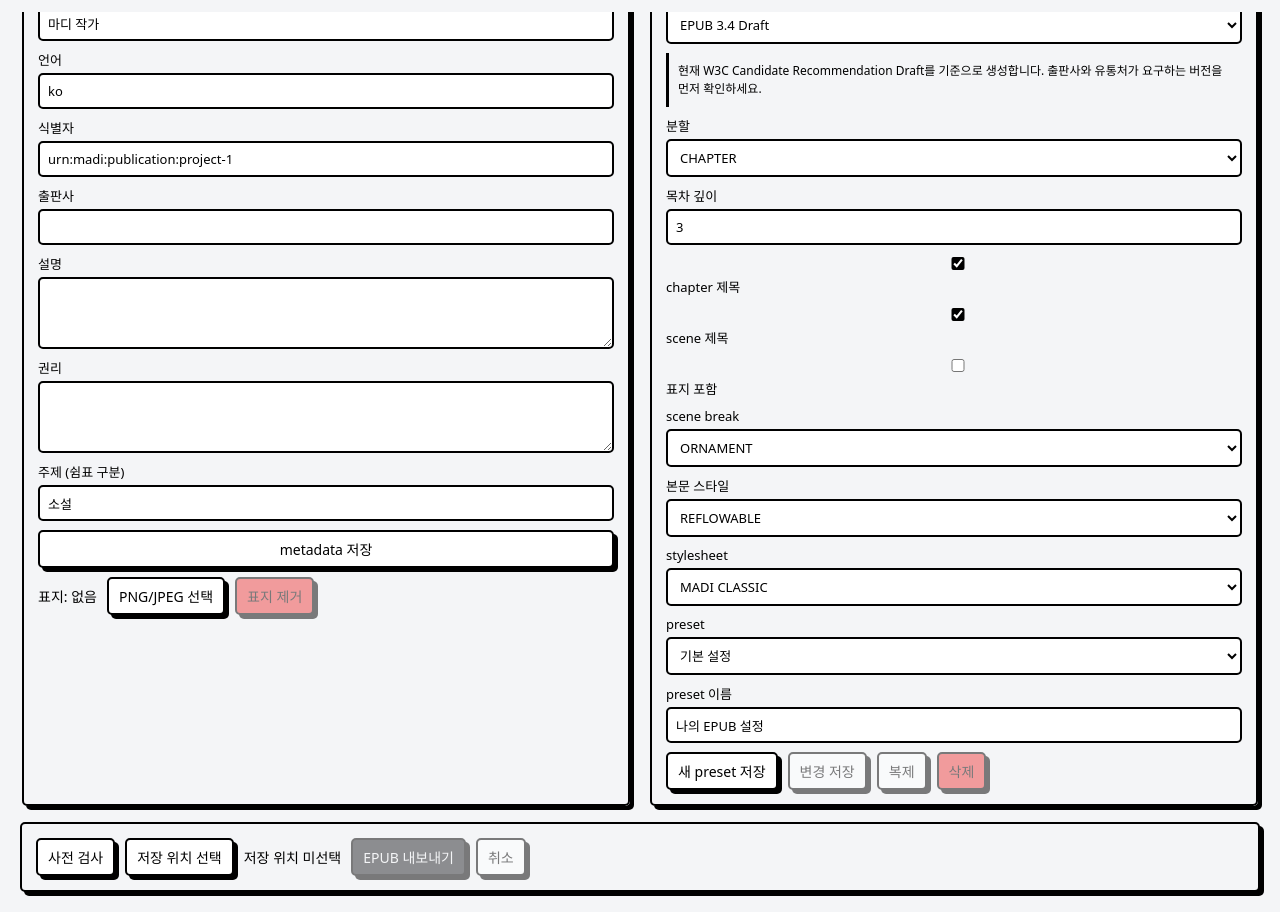
Scenario: Phase 1G EPUB export workspace › serializes duplicate leave saves and preserves an edit made before a delayed response
(page scrolled)
Type "첫 번째 설명" into the text box labelled "설명" at (326, 313), box [38, 277, 614, 349]
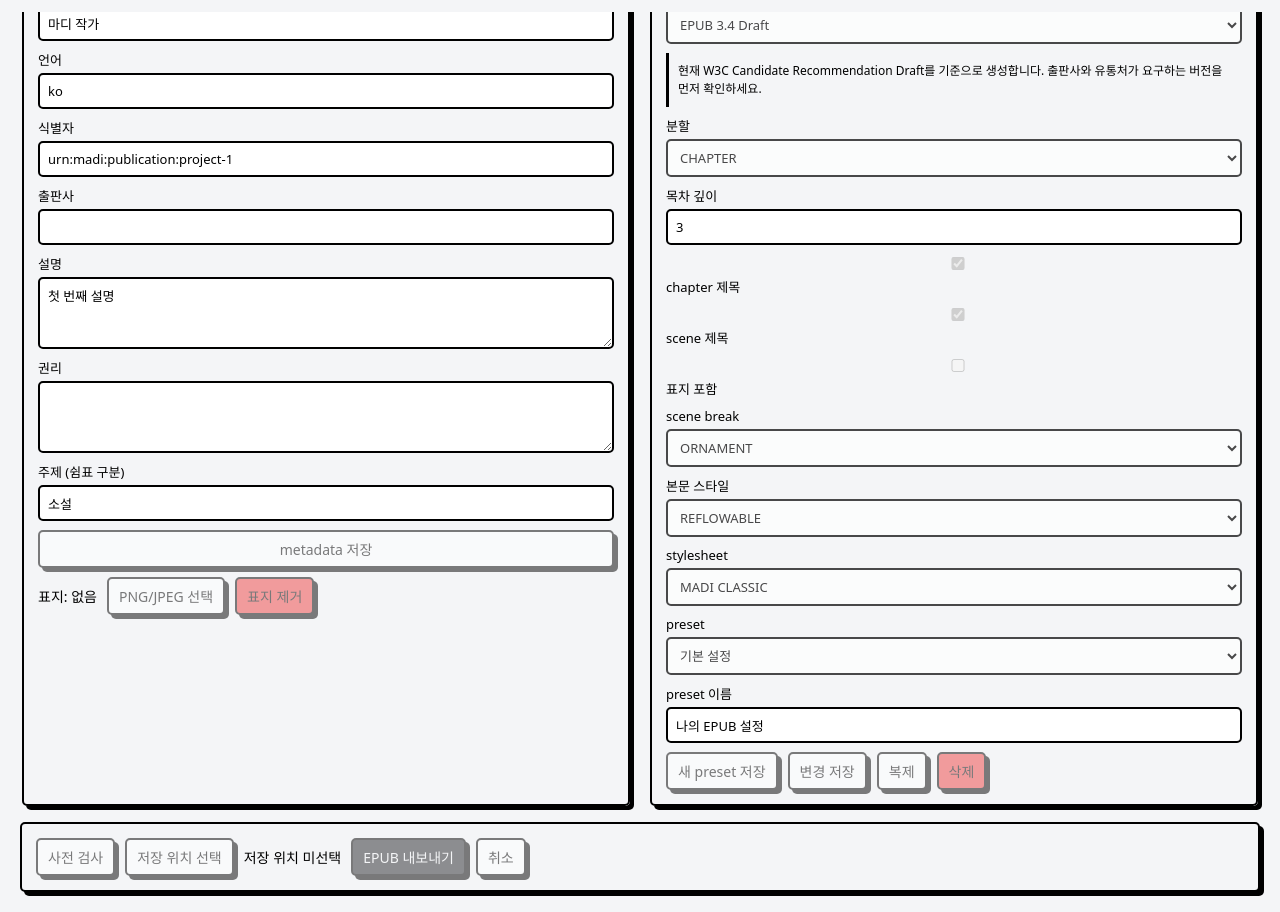
Expected: the element labelled "설명" is disabled, [22, 12, 630, 806]
Replace the text in the text box labelled "설명" with "응답 전에 바꾼 설명" at (326, 313), box [38, 277, 614, 349]
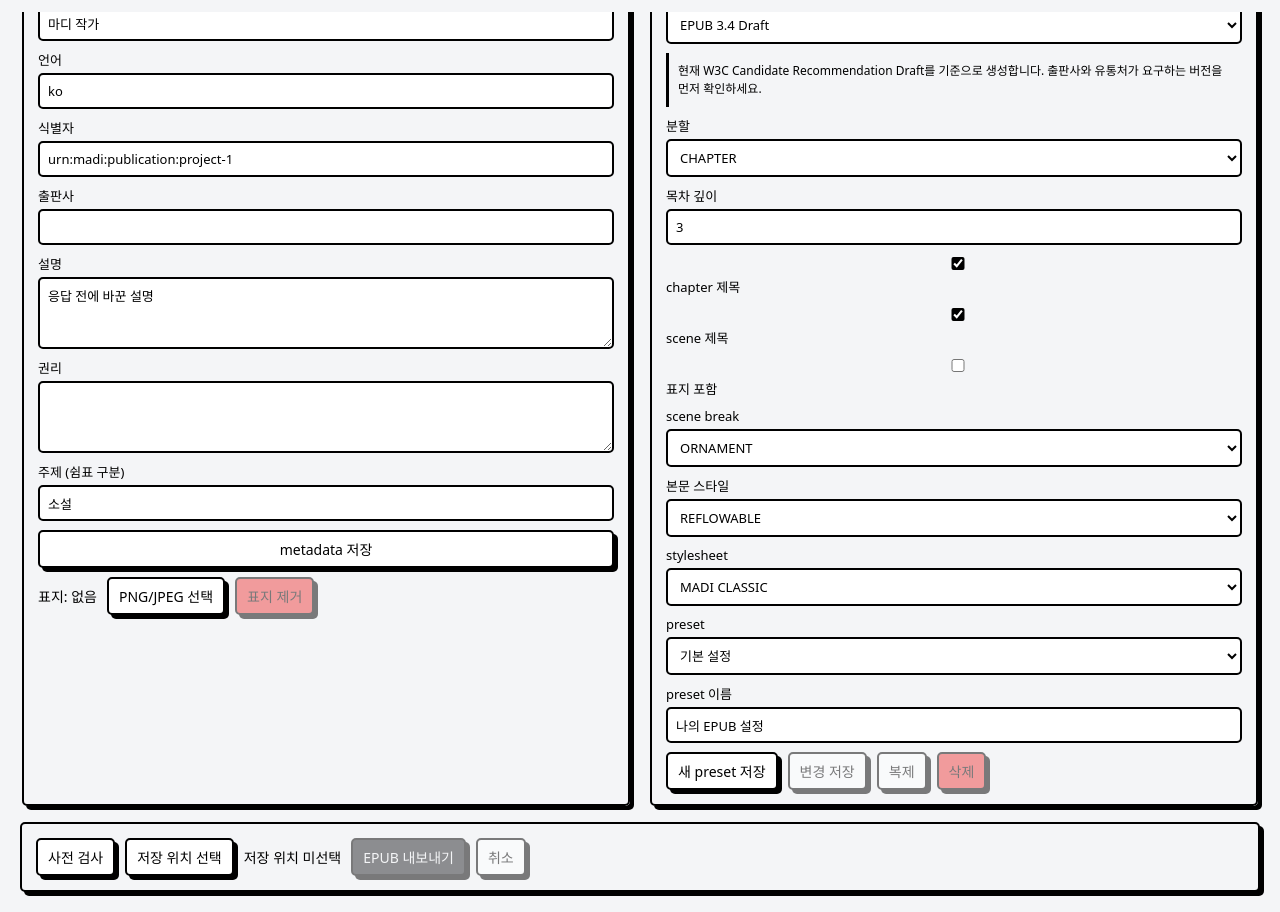
Expected: the element labelled "설명" is enabled, [22, 12, 630, 806]
